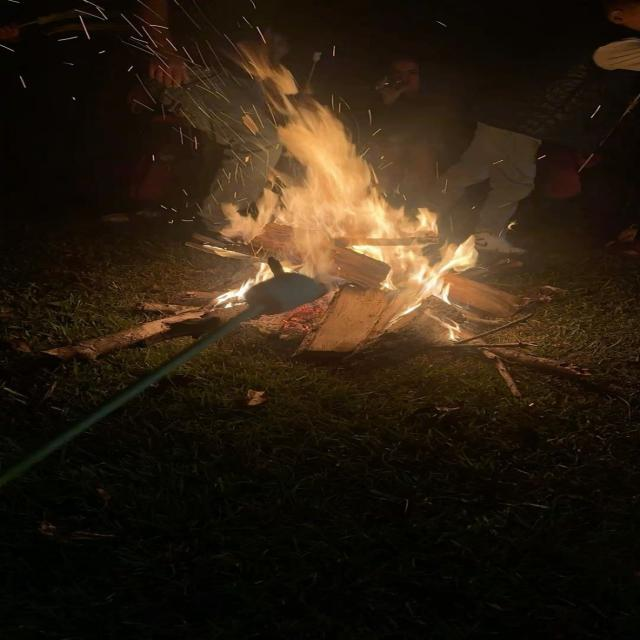fire: (204, 42, 477, 342)
